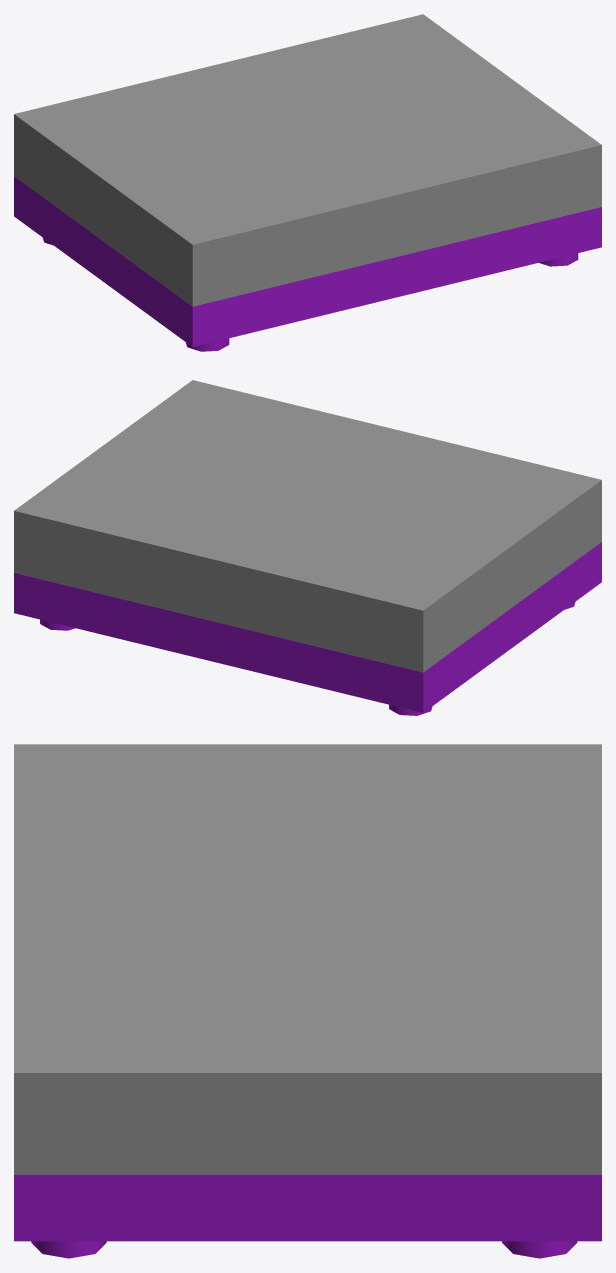
Rendered from shop cont player lod0.FBX.
3 renders of one model, top to bottom at view 1: azimuth 30°, elevation 25°; view 2: azimuth 150°, elevation 25°; view 3: azimuth 270°, elevation 25°, orthographic. The views are drawn at different scales.
Parts seen in each view (by area): view 1: Box400, Box399; view 2: Box400, Box399; view 3: Box400, Box399.
Boxes of the visible parts, bbox=[...] form: Box400: bbox=[14, 14, 601, 306]; Box399: bbox=[14, 176, 601, 351]; Box400: bbox=[14, 380, 601, 672]; Box399: bbox=[14, 542, 601, 715]; Box400: bbox=[14, 744, 601, 1174]; Box399: bbox=[14, 1174, 601, 1258].
Size of the model in its own units: 0.8252 by 0.2261 by 0.624.
